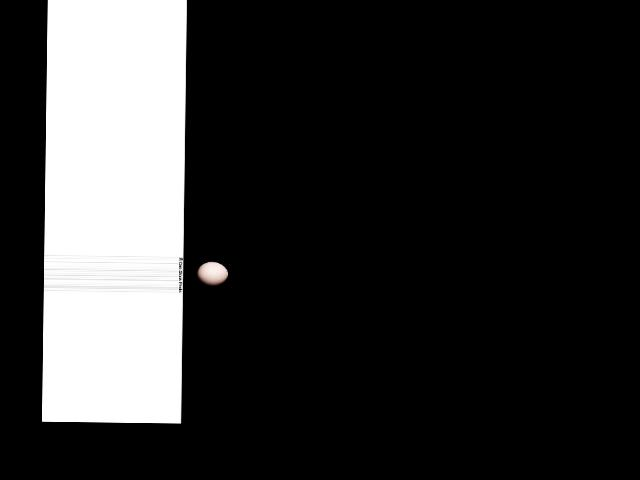egg: (195, 262, 228, 286)
